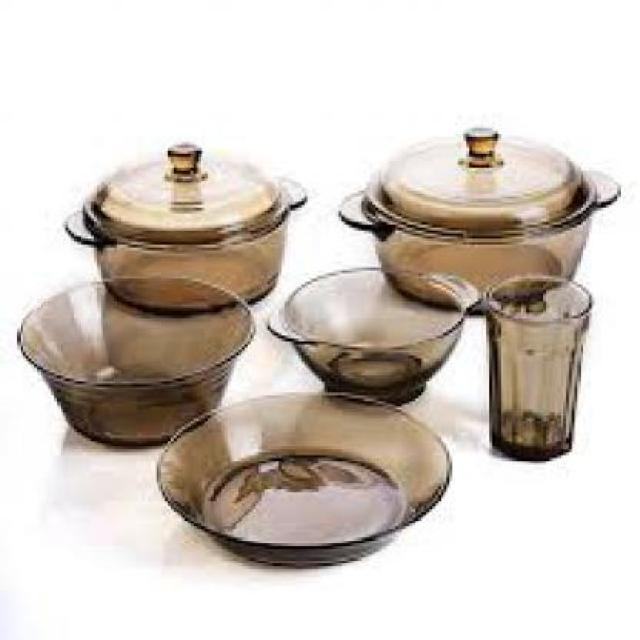kaca: (337, 126, 615, 314), (154, 389, 449, 563), (14, 271, 251, 446), (60, 140, 302, 311), (262, 265, 476, 406), (483, 270, 592, 462)
